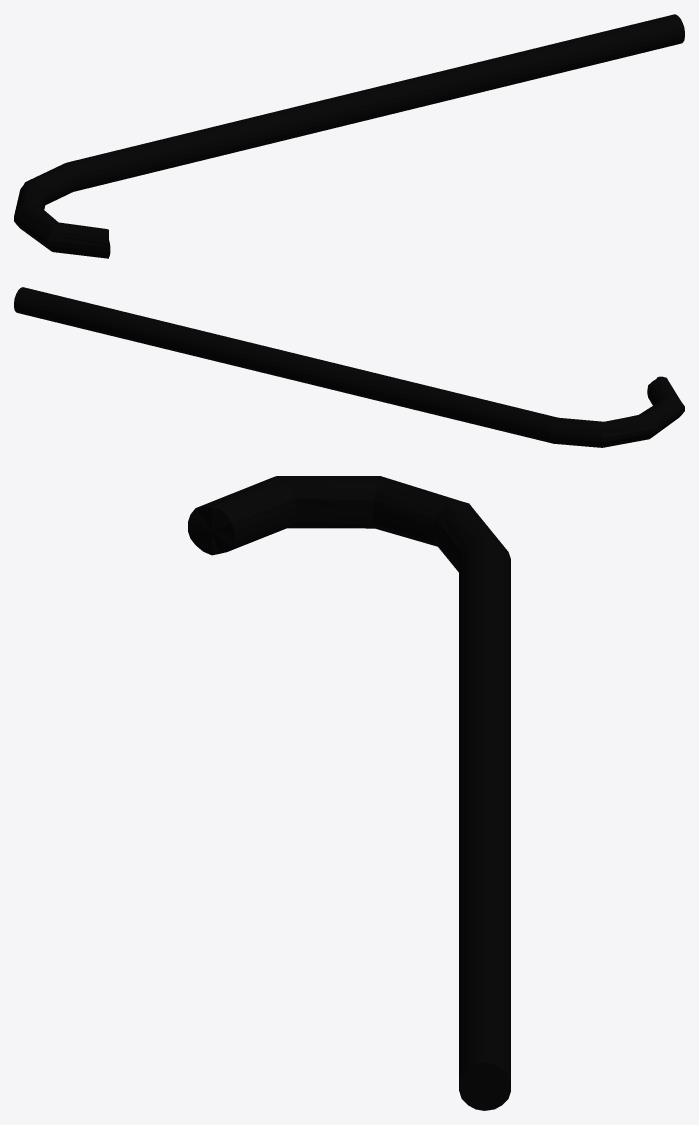
Rendered from Staff.glb.
The picture shows the model from 3 angles, top to bottom: view 1: azimuth 30°, elevation 25°; view 2: azimuth 150°, elevation 25°; view 3: azimuth 270°, elevation 25°; orthographic projection. The views are drawn at different scales.
Visible parts, largest first — view 1: Staff; view 2: Staff; view 3: Staff.
Part boxes in pixels (bbox=[...]): Staff: bbox=[14, 14, 684, 258]; Staff: bbox=[14, 287, 684, 447]; Staff: bbox=[188, 476, 510, 1110].
Size of the model in its own units: 143 by 5.4 by 32.78.
1 material, 1 textured.
